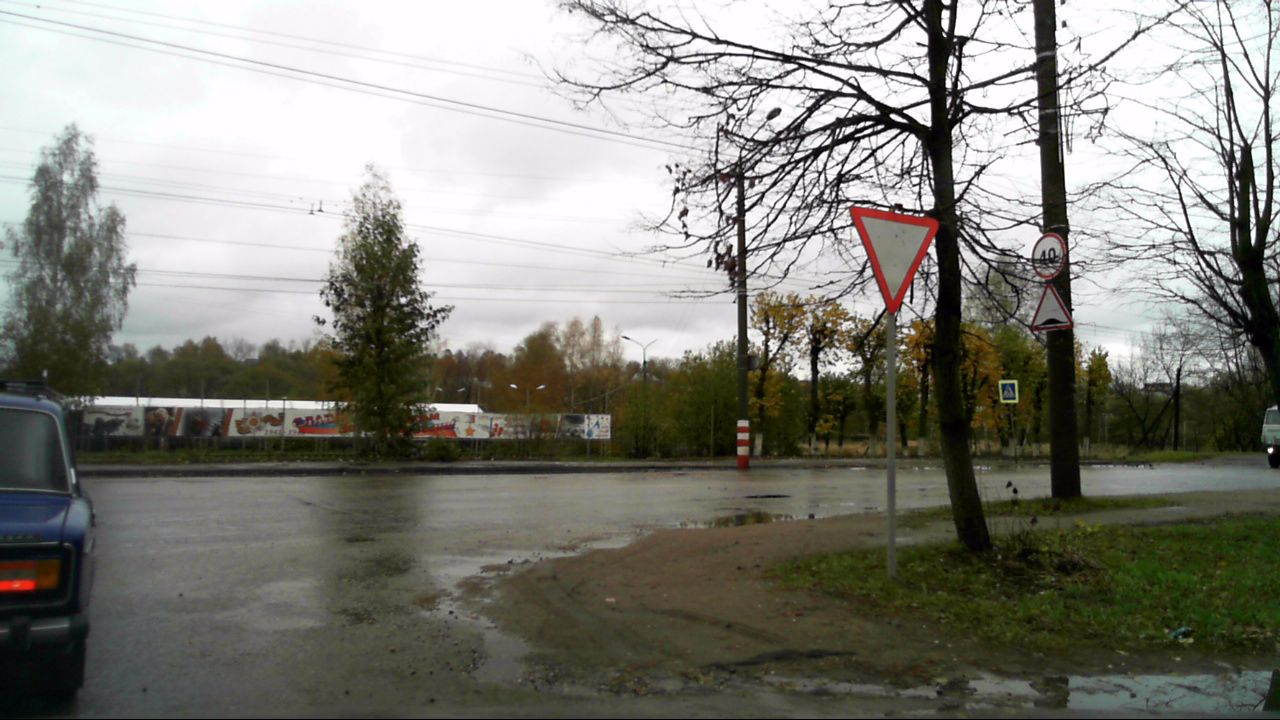speed_warning_40: (1031, 232, 1065, 281)
